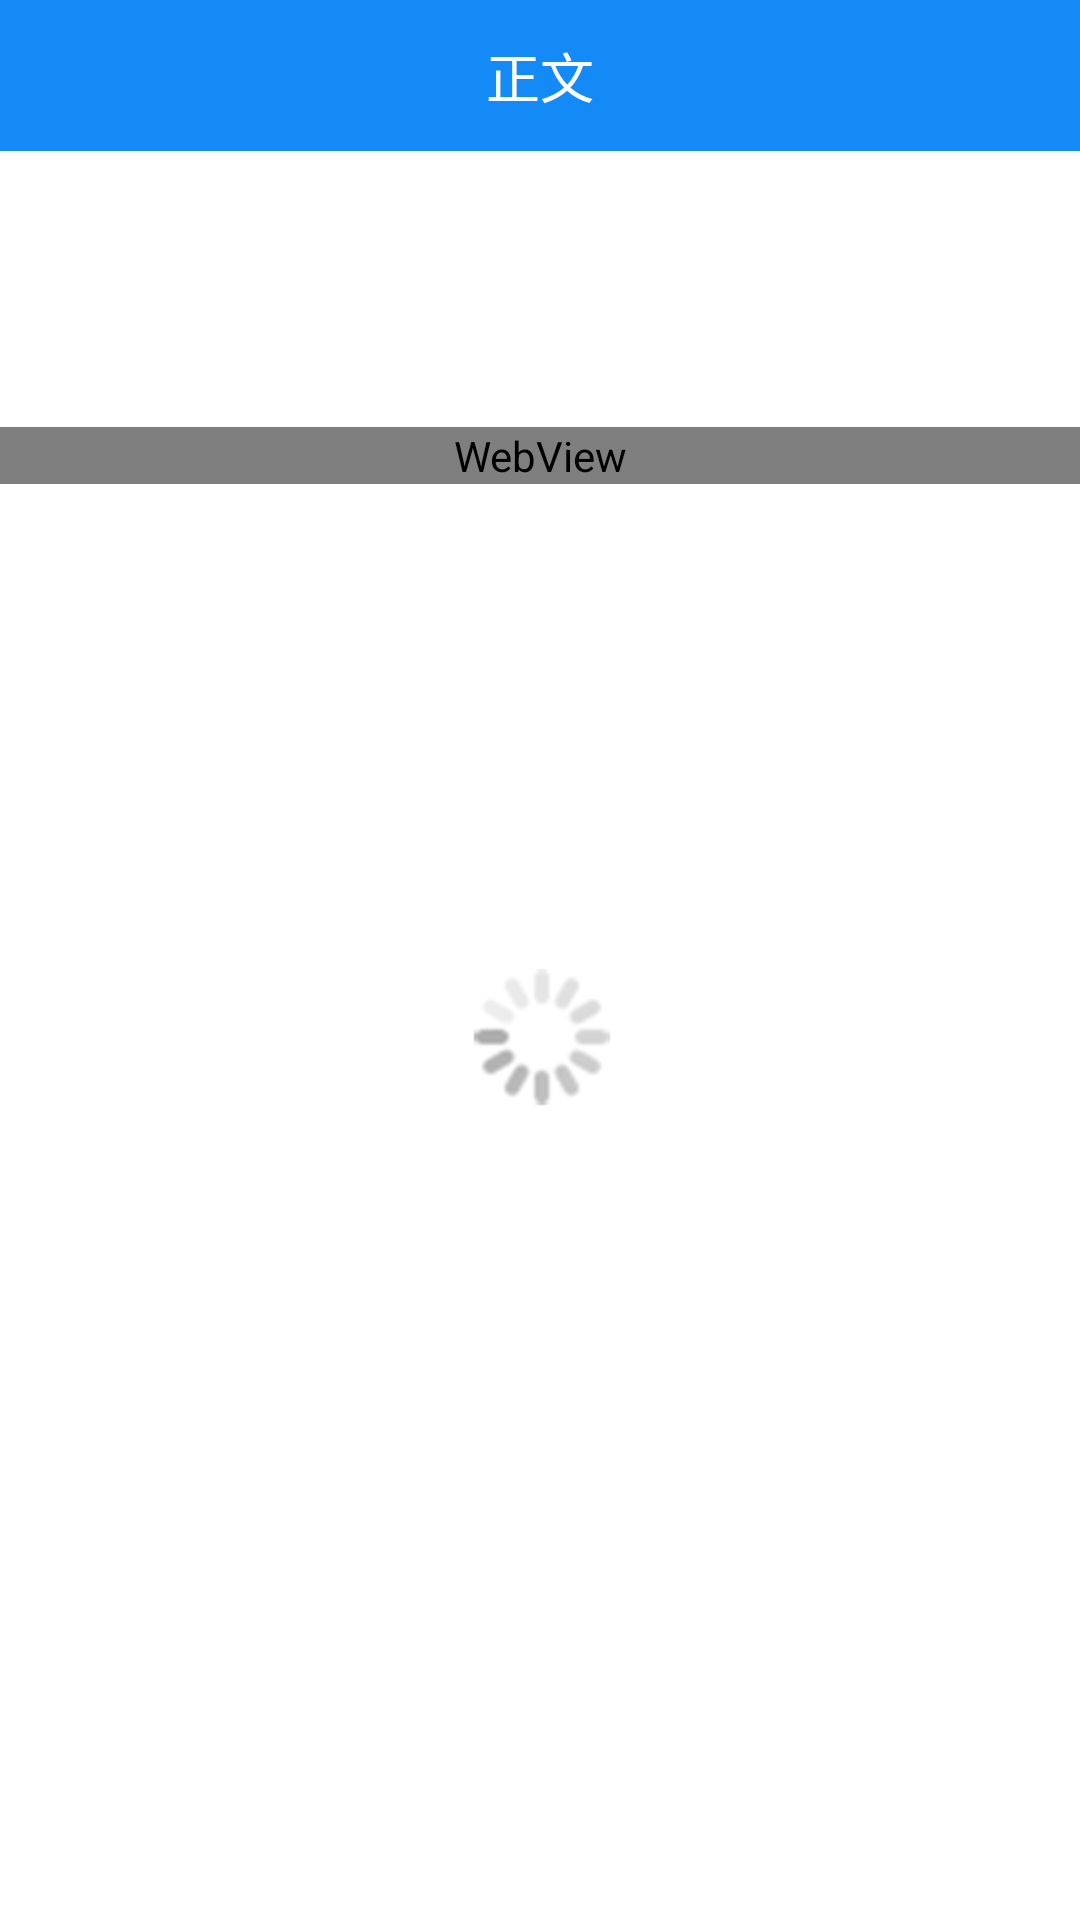

Where to tap for icons on this 1080 × 1920 app screen, as [x,y]:
loading: [542,1039]
